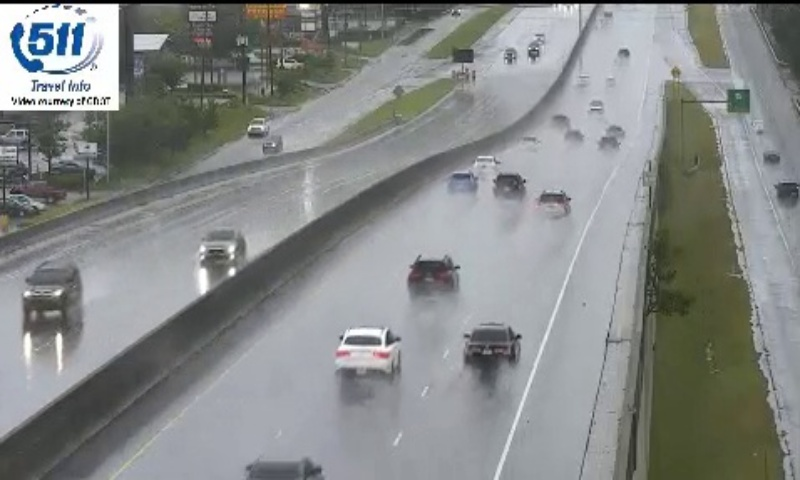car: (336, 327, 400, 379), (465, 323, 520, 367), (409, 255, 460, 295), (537, 188, 570, 217), (492, 171, 525, 200), (448, 171, 476, 196), (473, 154, 497, 177)
